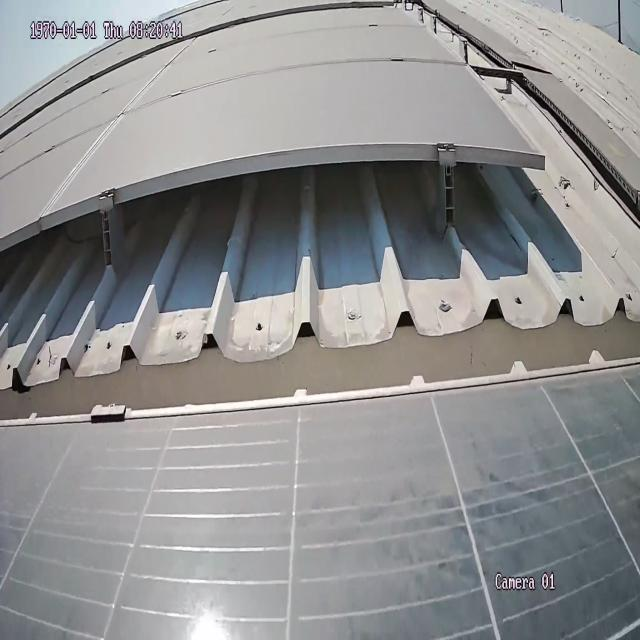interior panel: (44, 53, 183, 198)
outher panel: (0, 0, 640, 415)
